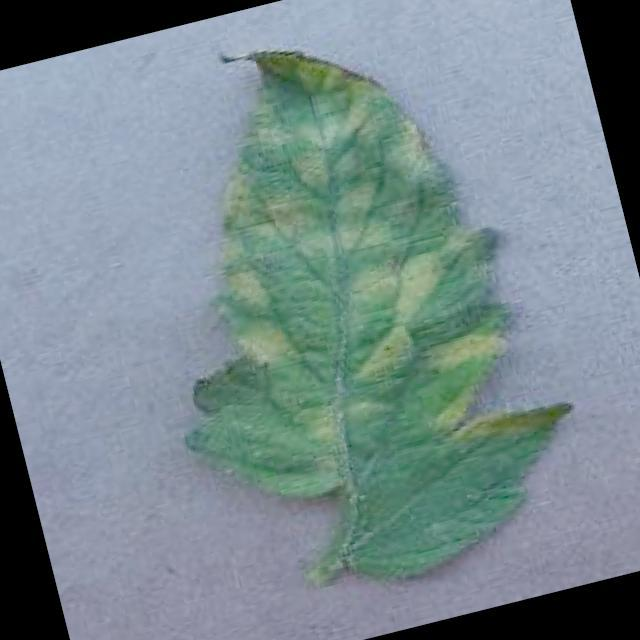Tomato mold leaf: (96, 0, 599, 617)
